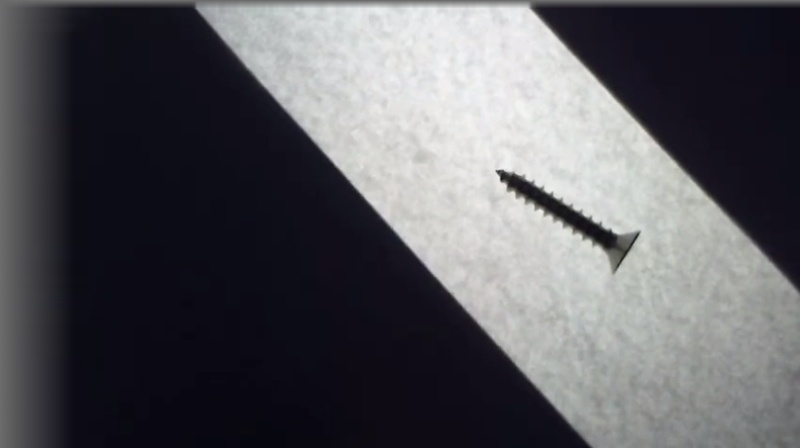S001: (491, 165, 646, 277)
